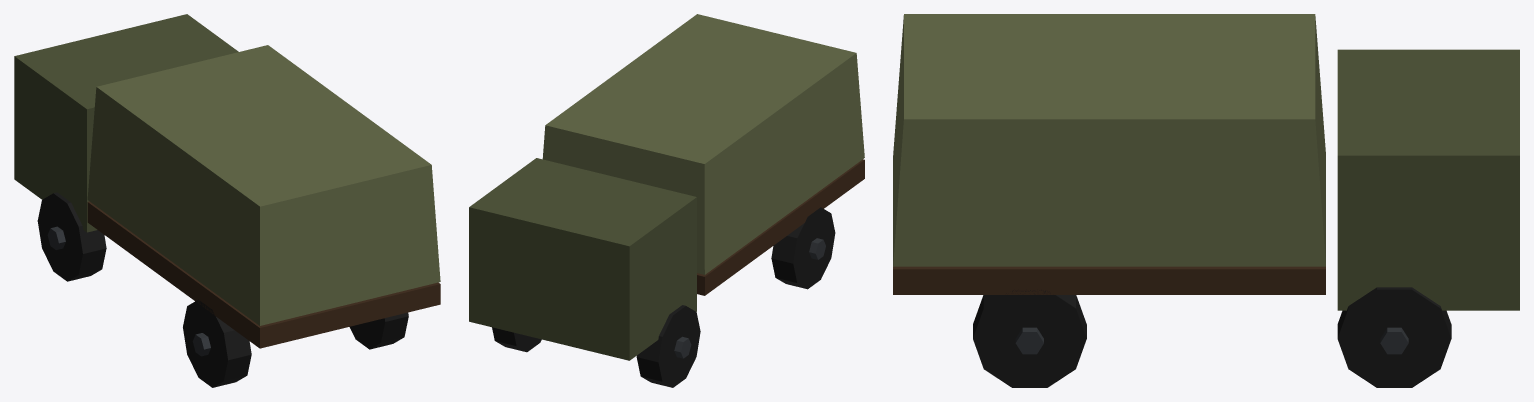
File: truck_c20.glb
3 views of the same model, side by side, from view 1: azimuth 30°, elevation 25°; view 2: azimuth 150°, elevation 25°; view 3: azimuth 270°, elevation 25° (orthographic). The views are drawn at different scales.
Parts seen in each view (by area): view 1: truck_c20; view 2: truck_c20; view 3: truck_c20.
Part boxes in pixels (x1=…): truck_c20: x1=14, y1=14, x2=440, y2=387; truck_c20: x1=469, y1=14, x2=864, y2=387; truck_c20: x1=893, y1=14, x2=1519, y2=387.
Bounding box in the file's own units: 2.48 × 2.58 × 5.5.
